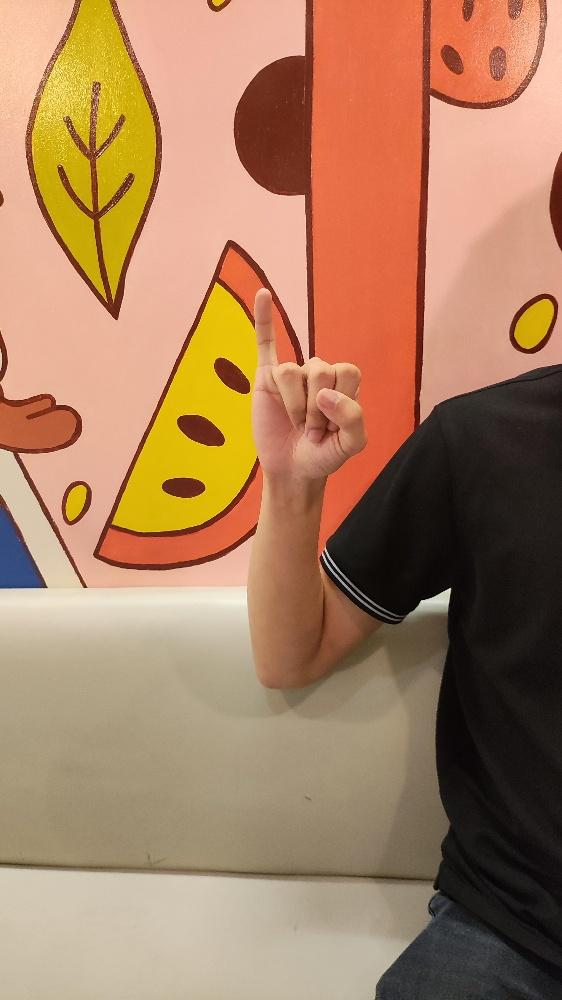i: (248, 285, 369, 482)
